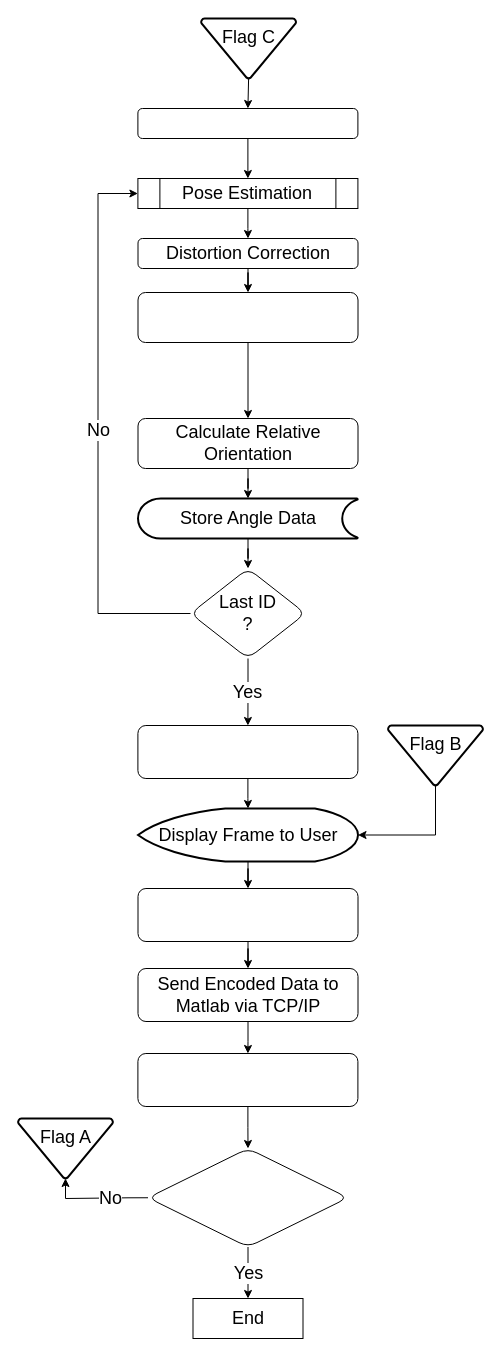
The diagram is 501 pixels wide and 1356 high, and some of its shapes have lost their labels. The shapes that lost their labels are listed below. From the top down, each one's box as (x1, y1, x2, y2) in pixels, then its label:
(137, 108, 358, 138): Overlay Result on Frame
(137, 292, 358, 342): Compute Pose using Camera Matrix
(137, 724, 358, 778): Overlay Marker Axis on Frame
(137, 888, 358, 942): Encode Stored Angle Data
(137, 1052, 358, 1106): Read User Key Press
(147, 1148, 348, 1247): 'Q' Pressed ?
